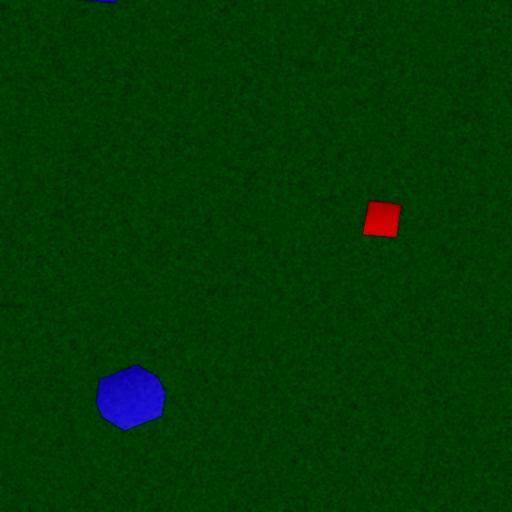RED_SQUARE: (362, 200, 402, 238)
